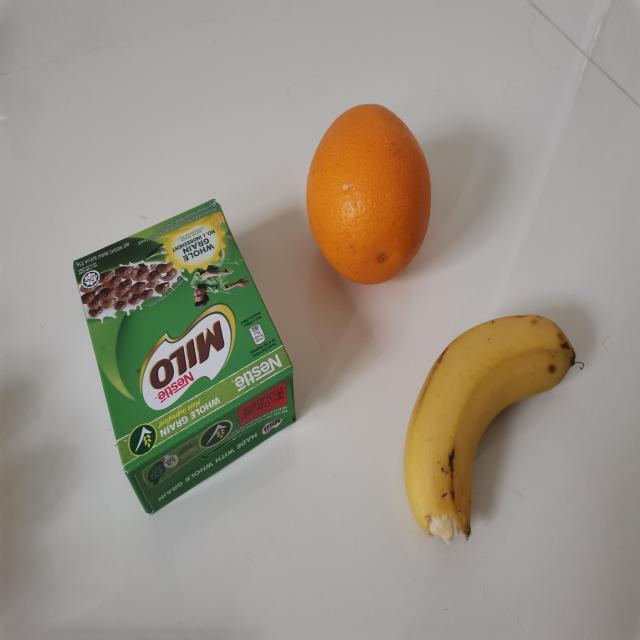Banana: (398, 309, 586, 547)
Cerealbox: (68, 195, 300, 517)
Orange: (303, 101, 433, 287)
